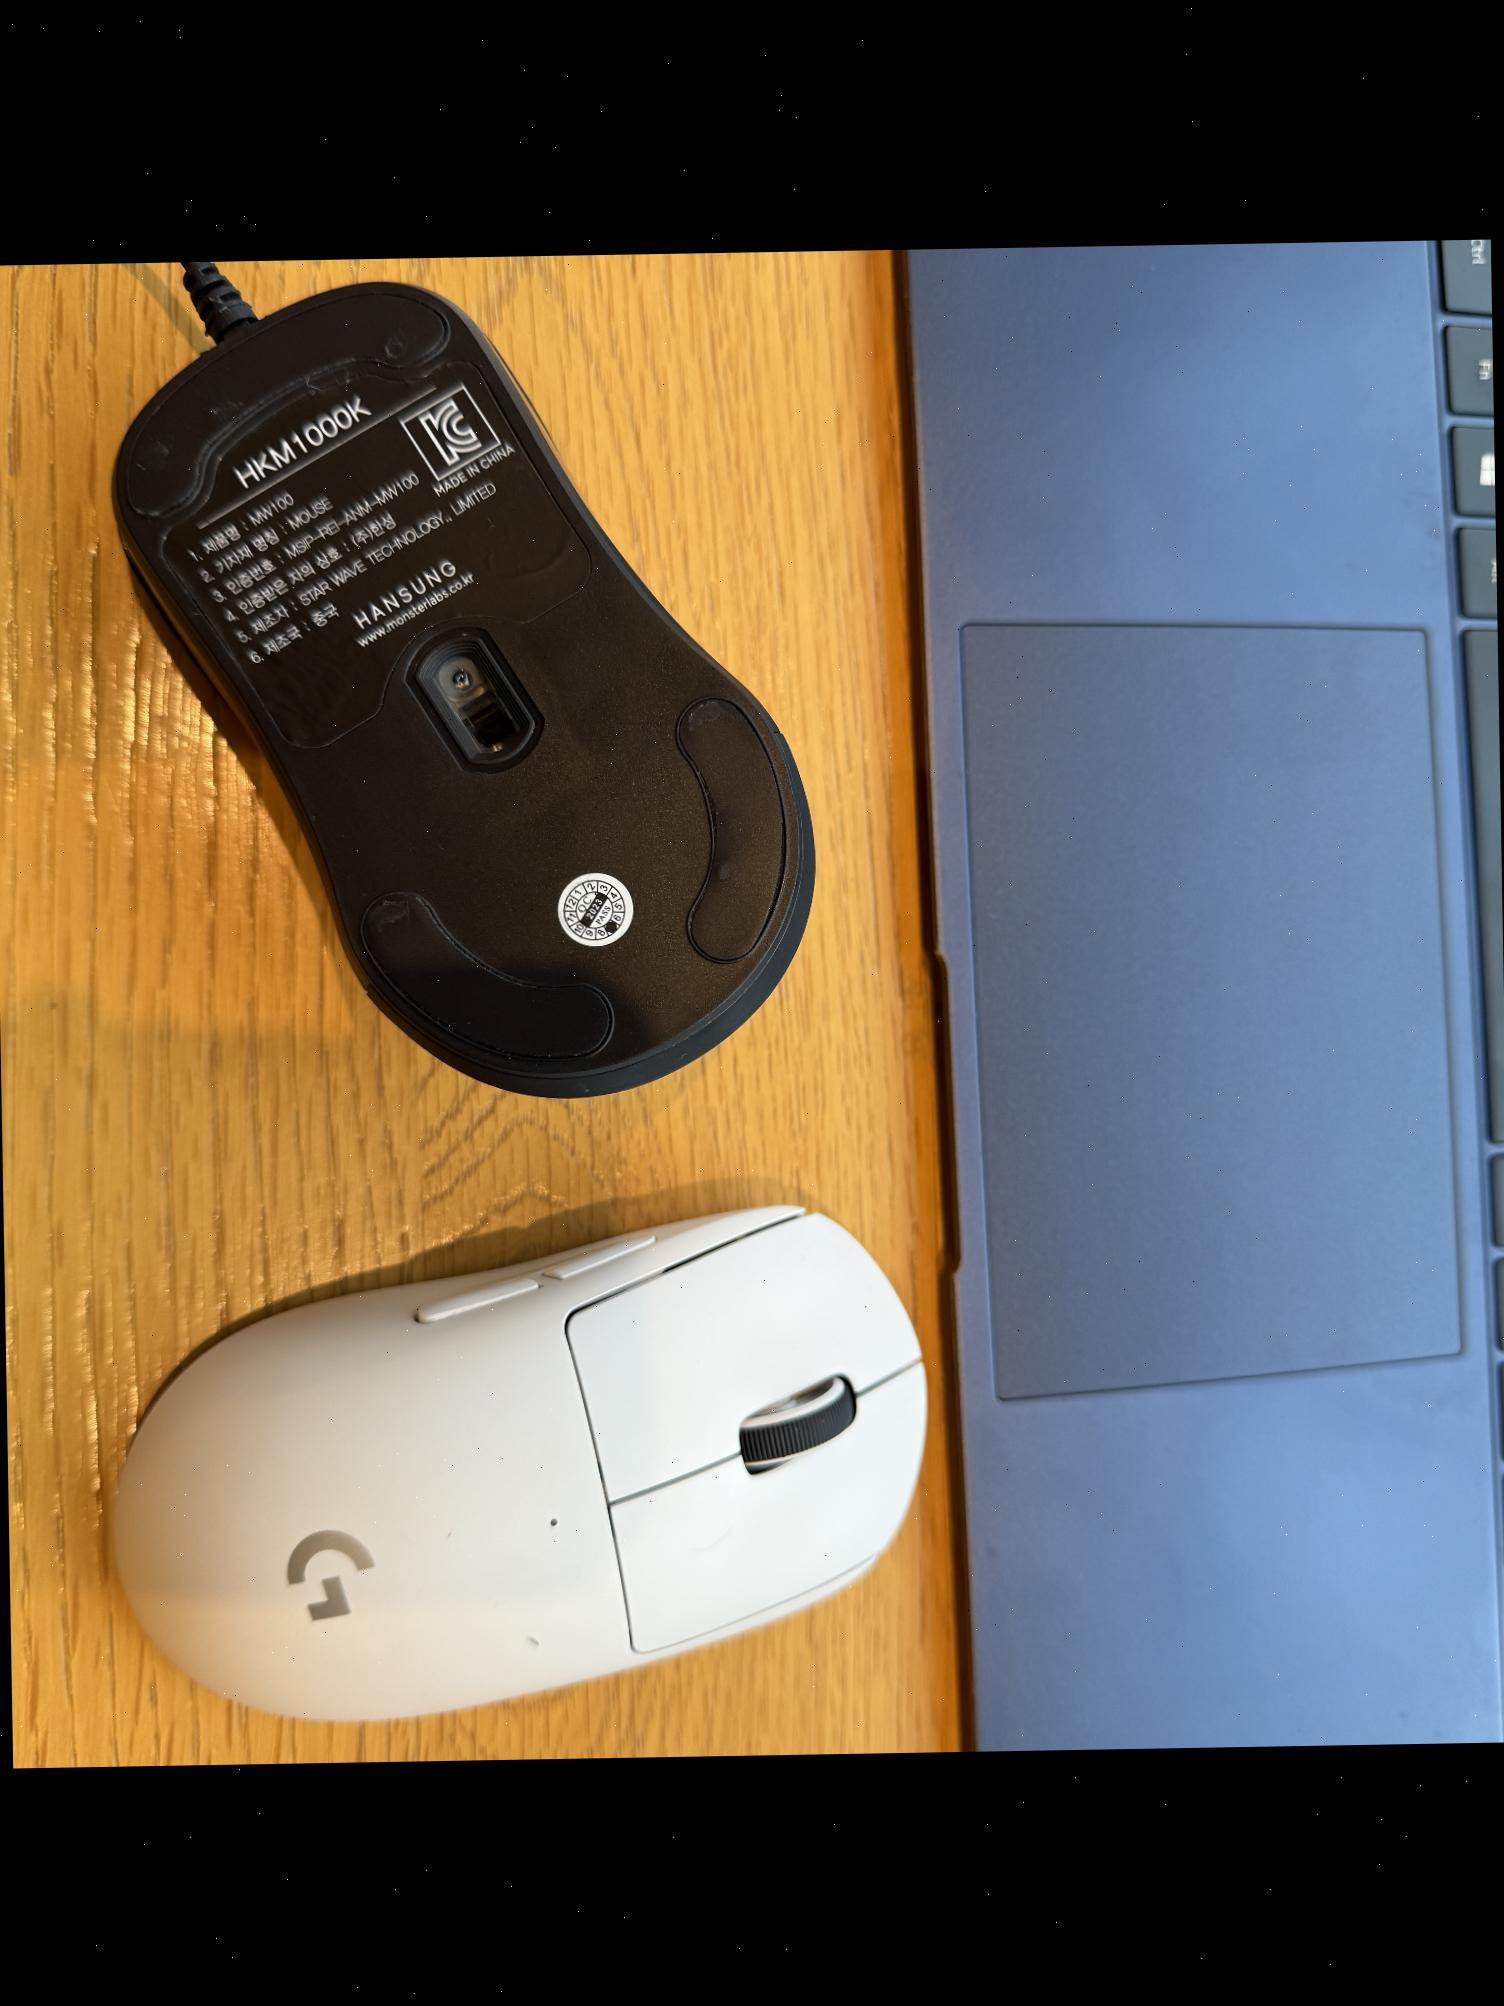back: (111, 273, 826, 1118)
front: (95, 1194, 942, 1731)
